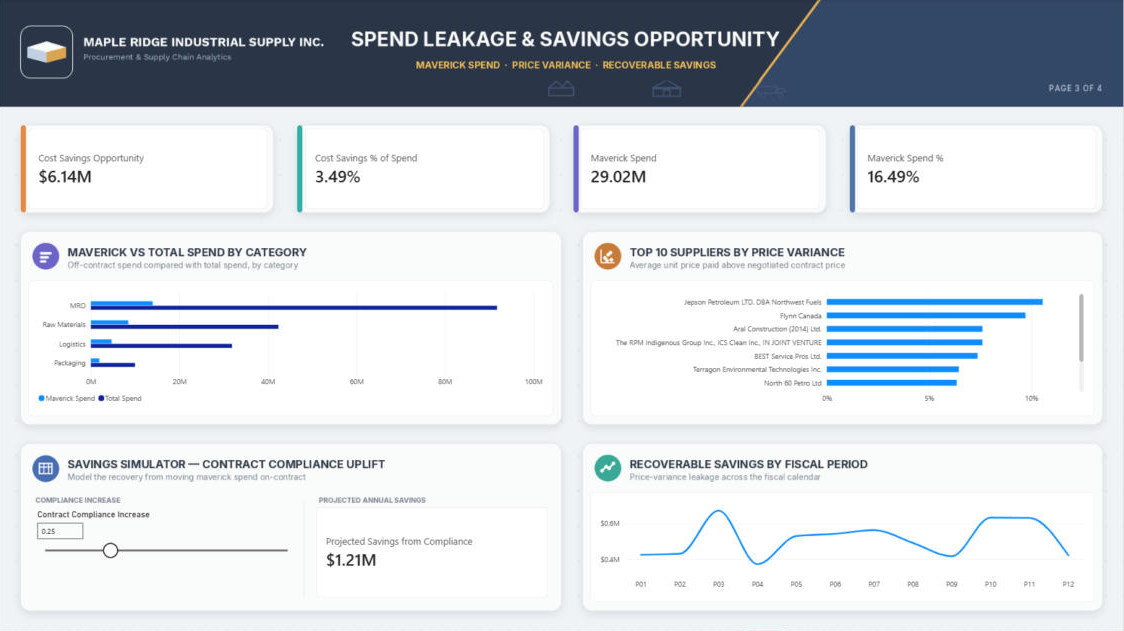

Layout of this report page (visuals, bound fields, positions):
{"tool":"powerbi","page":{"name":"Spend Leakage & Savings","canvas":[1920,1080],"ordinal":2},"visuals":[{"type":"cardVisual","fields":{"Data":["Measure_Table.Cost Savings Opportunity"]},"box":[50,220,408,138],"z":0},{"type":"cardVisual","fields":{"Data":["Measure_Table.Cost Savings % of Spend"]},"box":[522,220,408,138],"z":1000},{"type":"cardVisual","fields":{"Data":["Measure_Table.Maverick Spend"]},"box":[994,220,408,138],"z":2000},{"type":"cardVisual","fields":{"Data":["Measure_Table.Maverick Spend %"]},"box":[1466,220,408,138],"z":3000},{"type":"clusteredBarChart","fields":{"Category":["Dim_Category.Category"],"Y":["Measure_Table.Maverick Spend","Measure_Table.Total Spend"]},"box":[50,480,896,232],"z":4000},{"type":"clusteredBarChart","fields":{"Category":["Dim_Supplier.Supplier_Name"],"Y":["Measure_Table.Avg Price Variance %"]},"box":[1010,480,860,232],"z":5000},{"type":"slicer","fields":{"Values":["Contract Compliance Increase.Contract Compliance Increase"]},"box":[58,872,454,150],"z":6000},{"type":"cardVisual","fields":{"Data":["Measure_Table.Projected Savings from Compliance"]},"box":[542,868,396,154],"z":7000},{"type":"lineChart","fields":{"Category":["Dim_Date.Fiscal_Period"],"Y":["Measure_Table.Cost Savings Opportunity"]},"box":[1010,842,860,188],"z":8000}]}

Visuals, with their boxes in screenshot pixels (x1, y1, x2, y2), scaled from the page's 1920x1080 canvas onto the 1124x631 screenshot:
cardVisual - Measure_Table.Cost Savings Opportunity: <box>29,129,268,209</box>
cardVisual - Measure_Table.Cost Savings % of Spend: <box>306,129,544,209</box>
cardVisual - Measure_Table.Maverick Spend: <box>582,129,821,209</box>
cardVisual - Measure_Table.Maverick Spend %: <box>858,129,1097,209</box>
clusteredBarChart - Dim_Category.Category x Measure_Table.Maverick Spend: <box>29,280,554,416</box>
clusteredBarChart - Dim_Supplier.Supplier_Name x Measure_Table.Avg Price Variance %: <box>591,280,1095,416</box>
slicer - Contract Compliance Increase.Contract Compliance Increase: <box>34,509,300,597</box>
cardVisual - Measure_Table.Projected Savings from Compliance: <box>317,507,549,597</box>
lineChart - Dim_Date.Fiscal_Period x Measure_Table.Cost Savings Opportunity: <box>591,492,1095,602</box>
